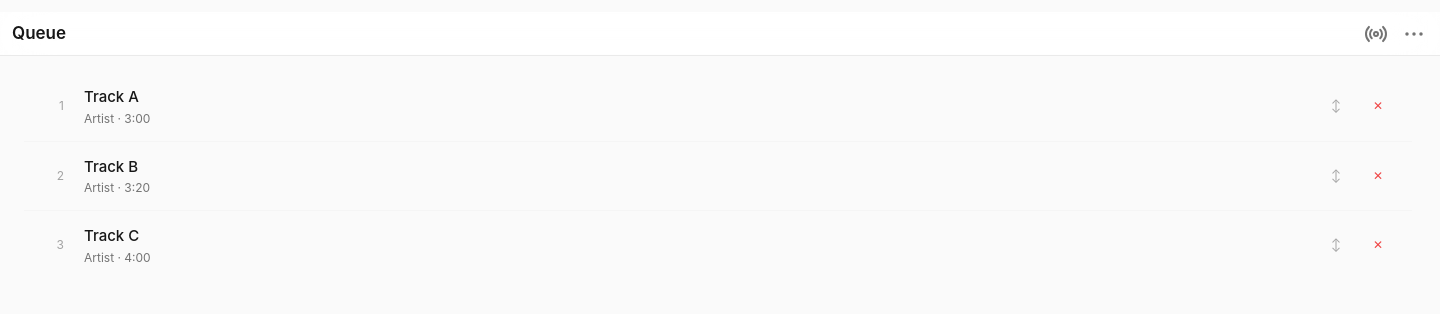
Test: QueueView › successful reorder clears busy state and preserves radio/current rendering
Press the mouse on the button with test id "queue-track-reorder" at (1336, 106), box [1318,88,1354,124]
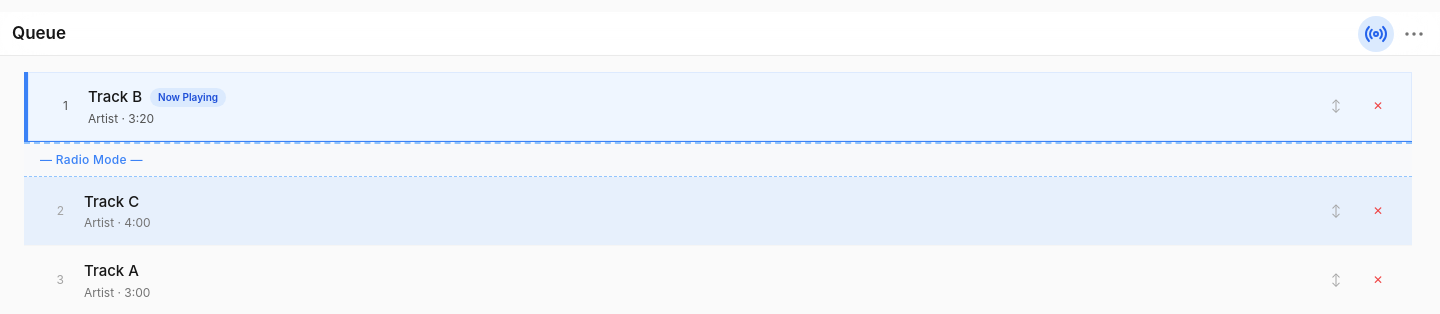
expect the list item with test id "radio-boundary" is shown: met, box [24,142,1412,176]
